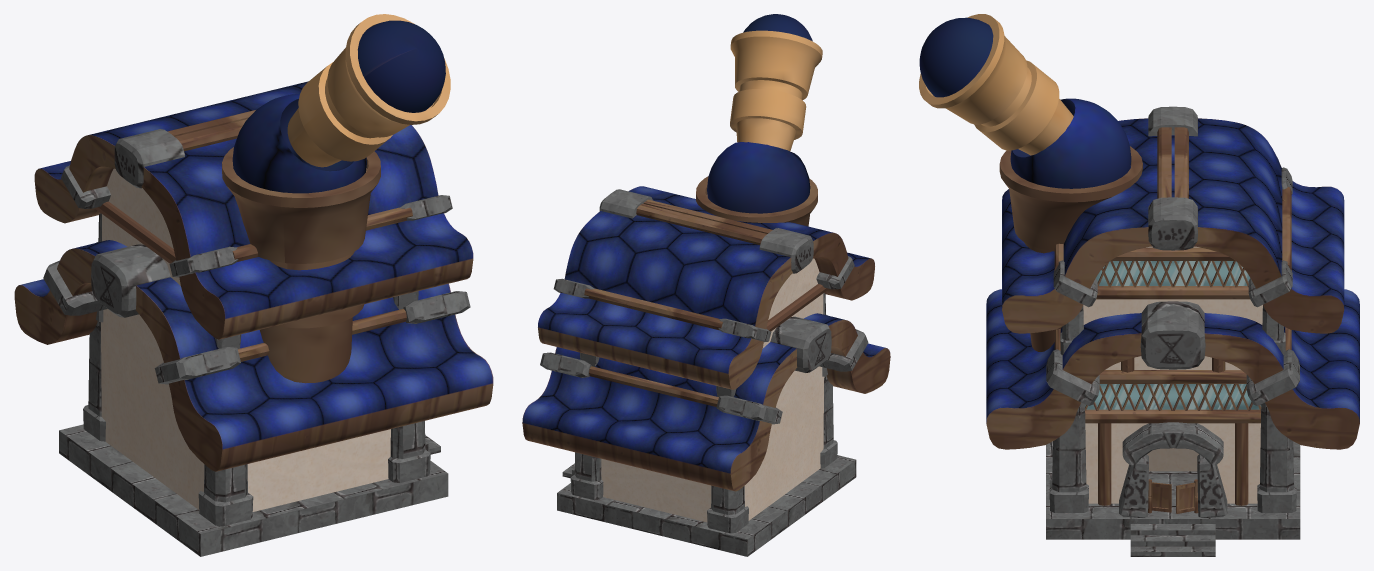
File: Hall_Textured.fbx
The picture shows the model from 3 angles, left to right: view 1: azimuth 30°, elevation 25°; view 2: azimuth 150°, elevation 25°; view 3: azimuth 270°, elevation 25°; orthographic projection. The views are drawn at different scales.
Parts seen in each view (by area): view 1: Circle, Circle.002, Cube.002, Cylinder, Cube, Cylinder.001, Cube.001, Sphere, Sphere.001, Cube.006, Plane, Cube.016 (+6 smaller); view 2: Circle.002, Circle, Cube.002, Cylinder.001, Cube, Sphere, Cube.001, Cube.006, Plane.002, Cube.018, Plane, Cylinder (+5 smaller); view 3: Circle.002, Circle, Cube.002, Cube, Cylinder.001, Sphere, Cube.001, Cylinder, Sphere.001, Plane, Plane.002, Cube.003 (+14 smaller).
Boxes of the visible parts, x1,y1,x2,y2 form: Circle: [14, 240, 493, 471]; Circle.002: [34, 81, 473, 339]; Cube.002: [101, 168, 390, 511]; Cylinder: [222, 147, 380, 383]; Cube: [59, 424, 448, 556]; Cylinder.001: [287, 14, 450, 167]; Cube.001: [83, 310, 430, 526]; Sphere: [232, 94, 366, 193]; Sphere.001: [357, 20, 445, 112]; Cube.006: [43, 260, 470, 384]; Plane: [91, 244, 170, 317]; Cube.016: [61, 165, 452, 277]; Circle.002: [538, 186, 874, 389]; Circle: [522, 313, 890, 491]; Cube.002: [601, 258, 824, 522]; Cylinder.001: [730, 30, 822, 151]; Cube: [557, 455, 856, 556]; Sphere: [707, 142, 810, 213]; Cube.001: [570, 367, 837, 533]; Cube.006: [540, 329, 868, 424]; Plane.002: [599, 189, 813, 273]; Cube.018: [636, 199, 772, 244]; Plane: [770, 316, 831, 372]; Cylinder: [696, 176, 817, 226]; Circle.002: [1002, 118, 1344, 333]; Circle: [986, 289, 1359, 449]; Cube.002: [1083, 246, 1262, 503]; Cube: [1046, 441, 1300, 556]; Cylinder.001: [919, 14, 1073, 155]; Sphere: [1010, 98, 1131, 188]; Cube.001: [1049, 402, 1296, 512]; Cylinder: [999, 146, 1142, 351]; Sphere.001: [919, 17, 993, 97]; Plane: [1140, 301, 1205, 369]; Plane.002: [1148, 106, 1197, 250]; Cube.003: [1119, 454, 1227, 517].
Size of the model in its own units: 523 by 850 by 716.
